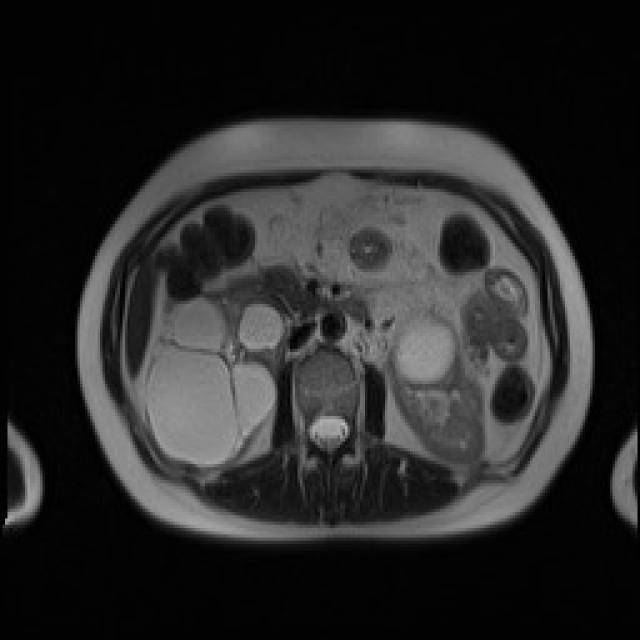sag: (143, 276, 291, 471)
sol: (387, 309, 487, 464)
